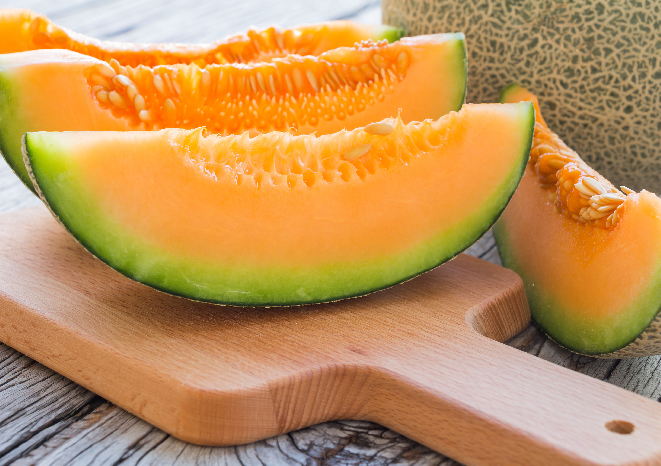Melon: (66, 104, 526, 319), (19, 41, 458, 176), (488, 88, 660, 374)
